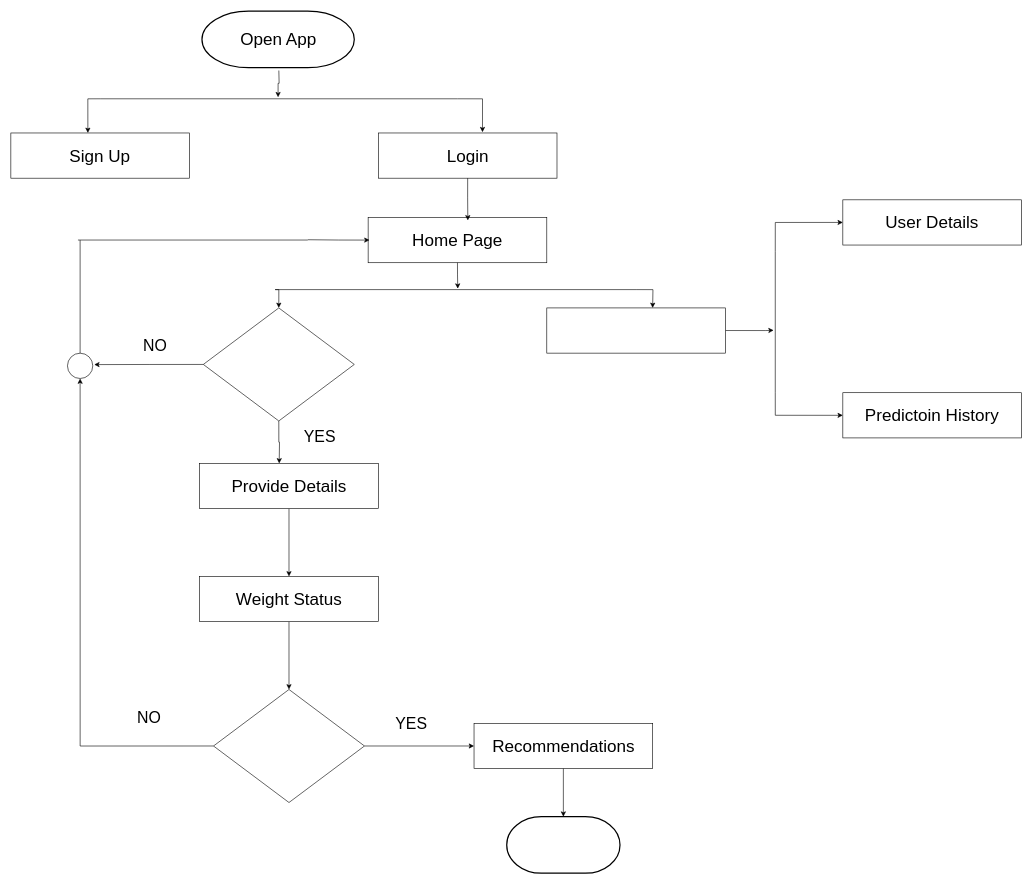
The diagram is 1032 pixels wide and 885 high, and some of its shapes have lost their labels. The shapes that lost their labels are listed below. From the top down, each one's centre as x and y in pixels, then its label:
At (635,330): "User Profile".
At (278,364): "Check Weight Category".
At (288,746): "Get Insights".
At (563,845): "Quit".
